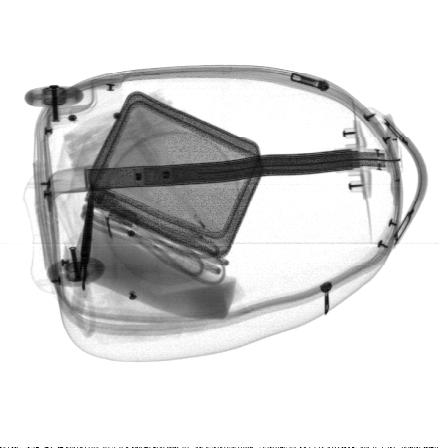Scissors: (56, 192, 98, 338)
